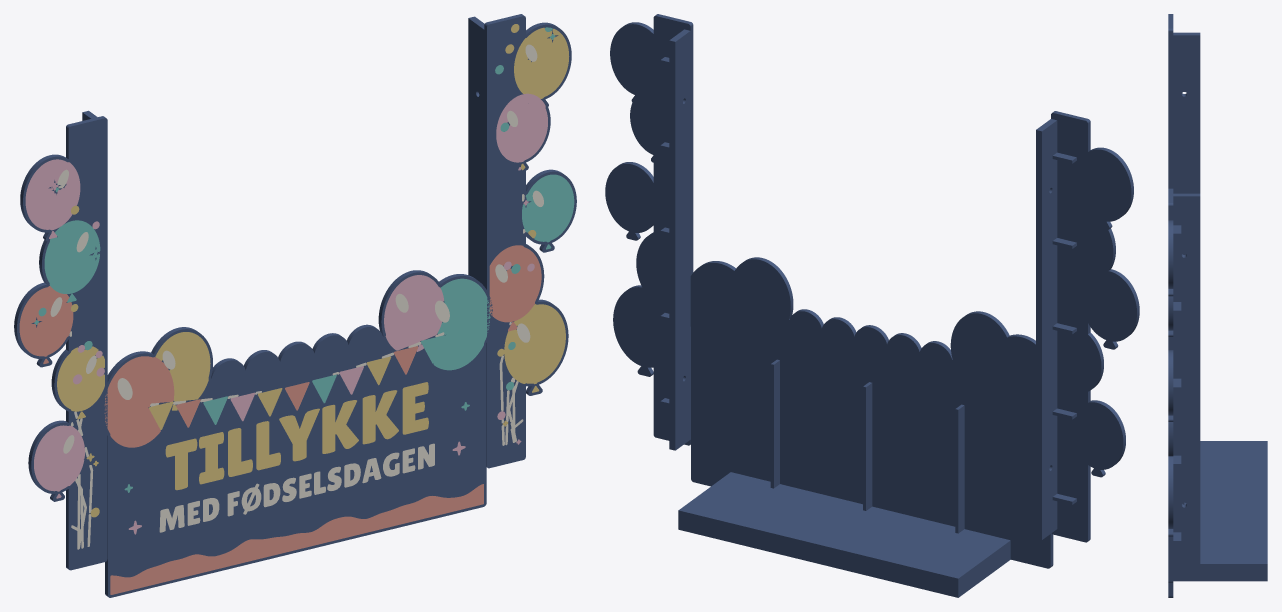
Rendered from parts.glb.
3 renders of one model, left to right at view 1: azimuth 30°, elevation 25°; view 2: azimuth 150°, elevation 25°; view 3: azimuth 270°, elevation 25°, orthographic. The views are drawn at different scales.
Parts seen in each view (by area): view 1: topper__base, wing_right__base, wing_left__base, topper__coral, topper__gold, wing_right__gold, wing_left__pink, topper__cream, topper__teal, topper__pink, wing_left__teal, wing_right__coral (+6 smaller); view 2: topper__base, wing_left__base, wing_right__base; view 3: wing_right__base, topper__base, wing_left__base.
Boxes of the visible parts, <box> form: topper__base: <box>101,270,492,597</box>; wing_right__base: <box>468,14,576,468</box>; wing_left__base: <box>14,110,107,570</box>; topper__coral: <box>104,346,483,594</box>; topper__gold: <box>149,332,428,490</box>; wing_right__gold: <box>497,24,569,426</box>; wing_left__pink: <box>25,159,104,498</box>; topper__cream: <box>117,293,449,532</box>; topper__teal: <box>124,278,490,492</box>; topper__pink: <box>128,275,465,534</box>; wing_left__teal: <box>34,187,100,350</box>; wing_right__coral: <box>489,245,541,331</box>; topper__base: <box>678,257,1053,597</box>; wing_left__base: <box>1036,111,1139,542</box>; wing_right__base: <box>605,14,693,450</box>; wing_right__base: <box>1168,188,1200,582</box>; topper__base: <box>1168,441,1267,597</box>; wing_left__base: <box>1168,14,1200,254</box>.
Bounding box in the file's own units: 346 × 284 × 62.
